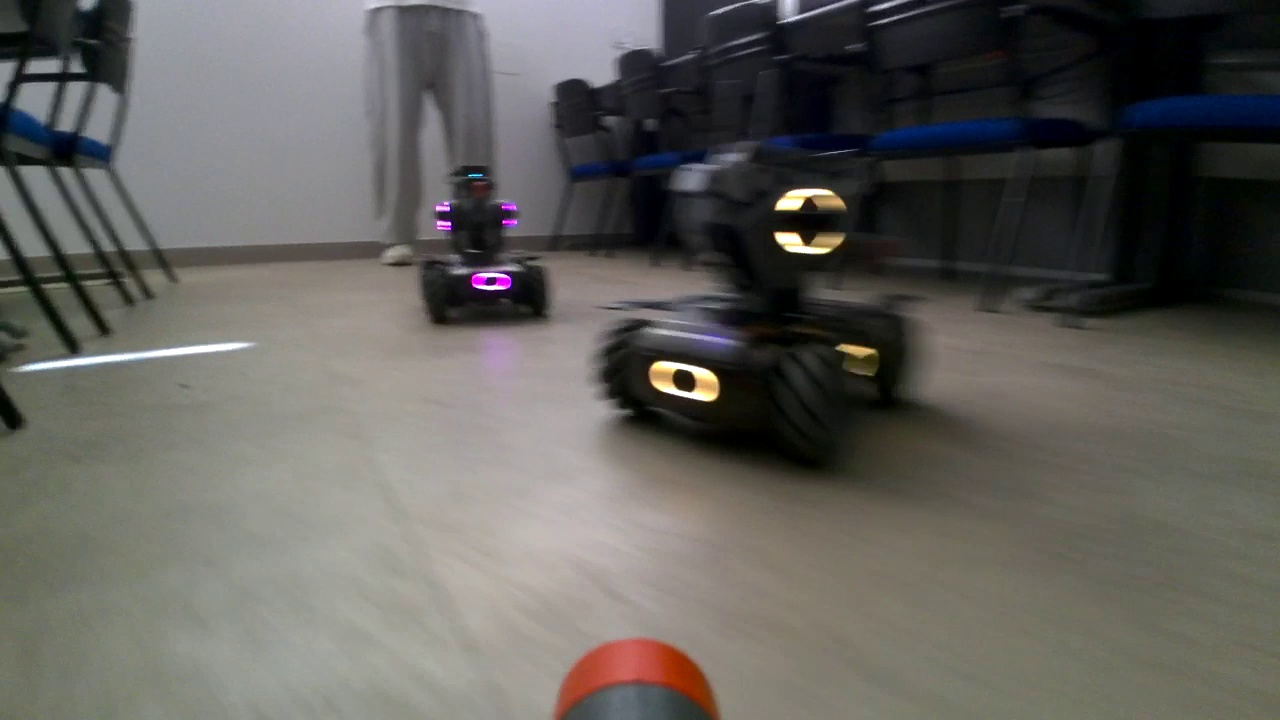robot: (602, 143, 926, 463), (423, 168, 545, 316)
